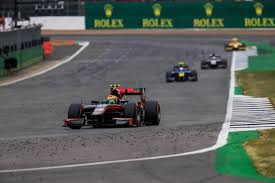race car: (62, 83, 161, 129), (165, 62, 198, 83), (199, 53, 228, 70), (222, 36, 247, 52)
